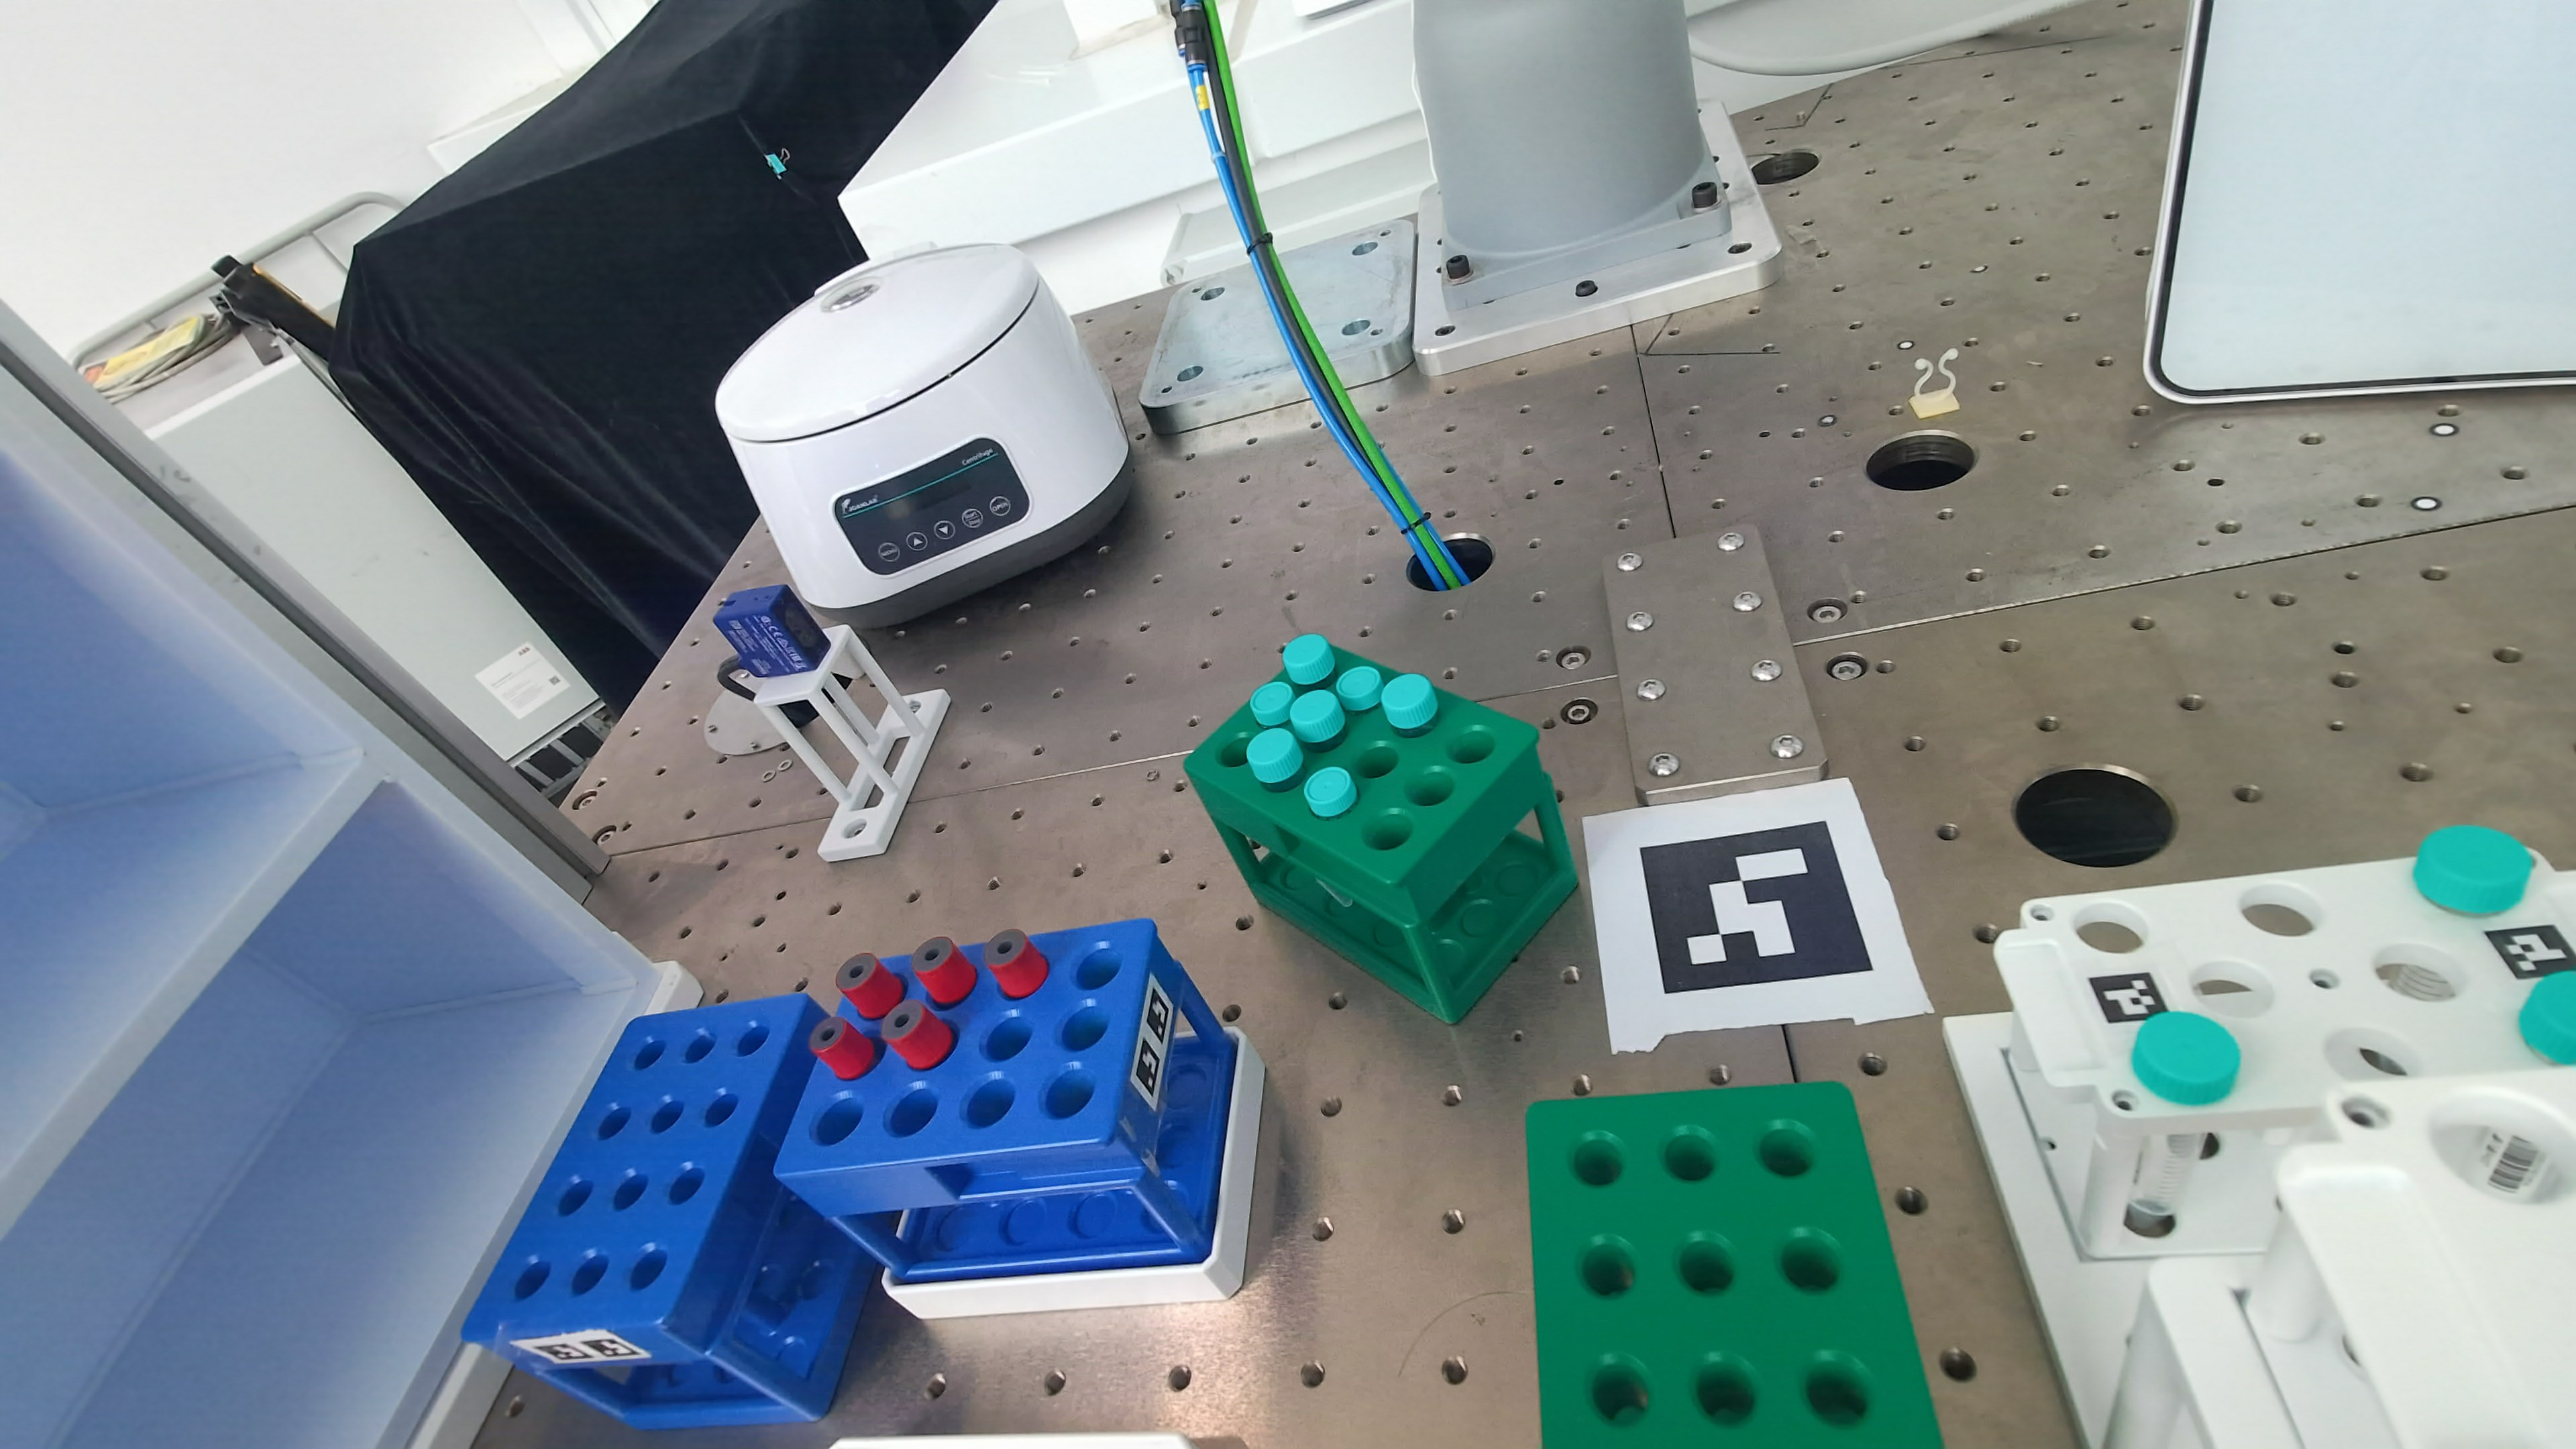10ML_centrifuge_tube: (2414, 825, 2533, 915), (2131, 1011, 2241, 1106), (2518, 971, 2576, 1065), (1246, 727, 1304, 790), (1381, 674, 1438, 733), (1290, 690, 1346, 746), (1283, 634, 1335, 687)
10ML_sorting_tube_rack: (462, 994, 873, 1428), (775, 919, 1239, 1284)
5ML_centrifuge_tube: (1303, 767, 1356, 818), (1335, 664, 1382, 712), (1250, 681, 1294, 728)
5ML_sorting_tube_rack: (1185, 635, 1577, 1023), (1527, 1083, 1940, 1448)
blood_tube: (881, 1000, 955, 1070), (837, 953, 906, 1020), (984, 929, 1049, 999), (911, 936, 977, 1004), (808, 1017, 876, 1079)
centrifuge_close: (716, 245, 1134, 852)
dispensing_tube_rack: (1946, 828, 2576, 1446)
refrigerator_close: (2144, 0, 2576, 403)
sorting_tube_rack_base: (885, 1034, 1266, 1319)
tube_rack_storage_cabinet: (0, 411, 694, 1445)
